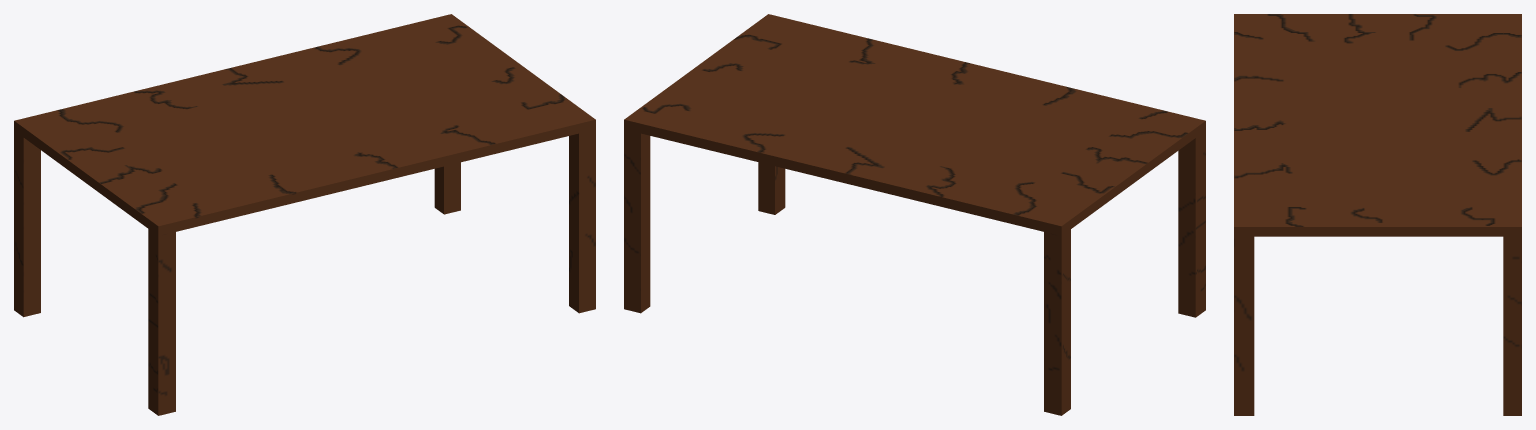
File: masa.obj
3 renders of one model, left to right at view 1: azimuth 30°, elevation 25°; view 2: azimuth 150°, elevation 25°; view 3: azimuth 270°, elevation 25°, orthographic.
Parts seen in each view (by area): view 1: cube; view 2: cube; view 3: cube.
Part boxes in pixels (x1,y1,x2,y2): cube: (14,14,595,415); cube: (624,14,1205,415); cube: (1234,14,1521,415).
Bounding box in the file's own units: 1.75 × 0.725 × 1.
